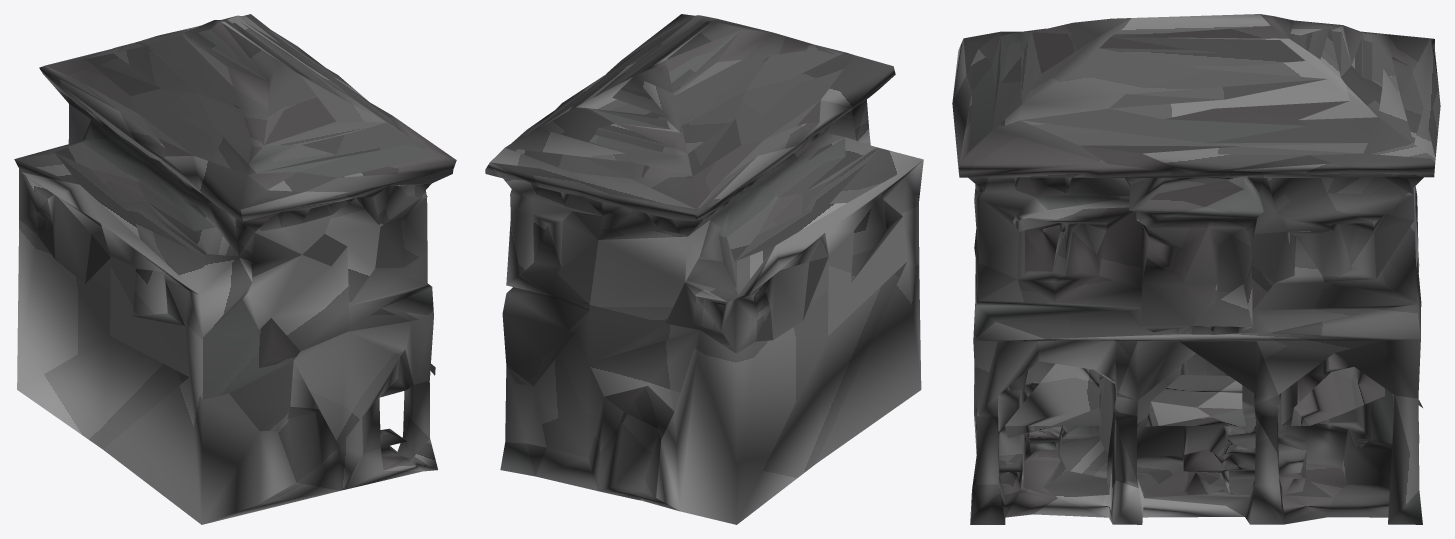
The model's file is house_merchant_1_lo.glb.
The picture shows the model from 3 angles, left to right: view 1: azimuth 30°, elevation 25°; view 2: azimuth 150°, elevation 25°; view 3: azimuth 270°, elevation 25°; orthographic projection. The views are drawn at different scales.
Visible parts, largest first — view 1: tripo_node_6ee37dab-8b94-4079-a453-865316013700; view 2: tripo_node_6ee37dab-8b94-4079-a453-865316013700; view 3: tripo_node_6ee37dab-8b94-4079-a453-865316013700.
Part boxes in pixels (x1,y1,x2,y2): tripo_node_6ee37dab-8b94-4079-a453-865316013700: (14,14,456,524); tripo_node_6ee37dab-8b94-4079-a453-865316013700: (485,14,923,524); tripo_node_6ee37dab-8b94-4079-a453-865316013700: (952,14,1440,524).
Size of the model in its own units: 0.7124 by 0.9498 by 0.9229.
1 material, 1 textured.
